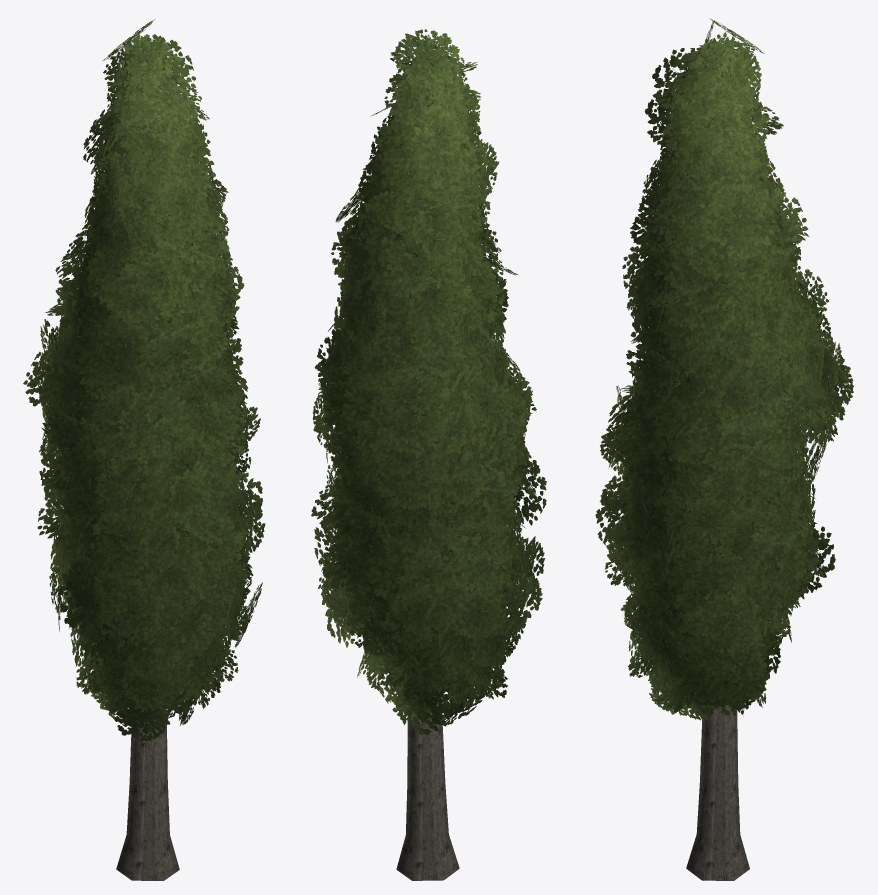
Rendered from tree-poplar.glb.
The picture shows the model from 3 angles, left to right: view 1: azimuth 30°, elevation 25°; view 2: azimuth 150°, elevation 25°; view 3: azimuth 270°, elevation 25°; orthographic projection.
Visible parts, largest first — view 1: tree-poplar; view 2: tree-poplar; view 3: tree-poplar.
Boxes of the visible parts, left/top/right/bottom form: tree-poplar: left=23, top=19, right=265, bottom=880; tree-poplar: left=311, top=29, right=546, bottom=880; tree-poplar: left=595, top=18, right=853, bottom=880.
Bounding box in the file's own units: 3.78 × 14.3 × 4.21.
2 materials, 2 textured.
